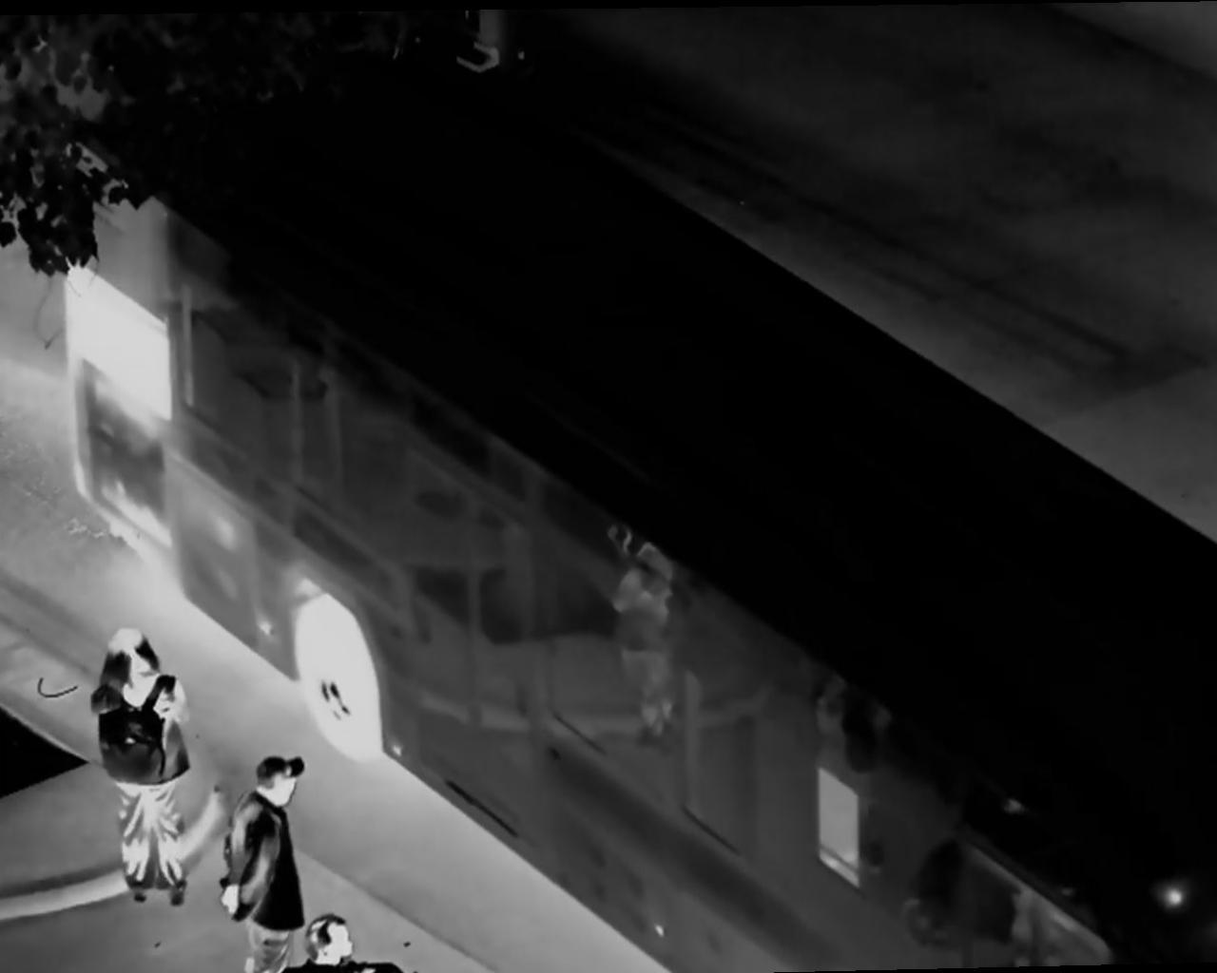person: (77, 630, 202, 912), (219, 746, 312, 966), (286, 907, 415, 973)
